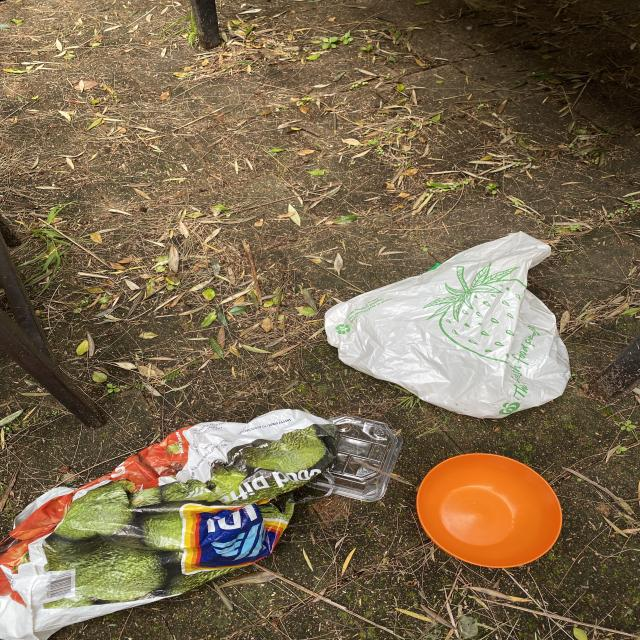bag: (0, 408, 337, 640), (324, 231, 570, 419)
bowl: (416, 452, 562, 569)
cup: (305, 415, 403, 502)
